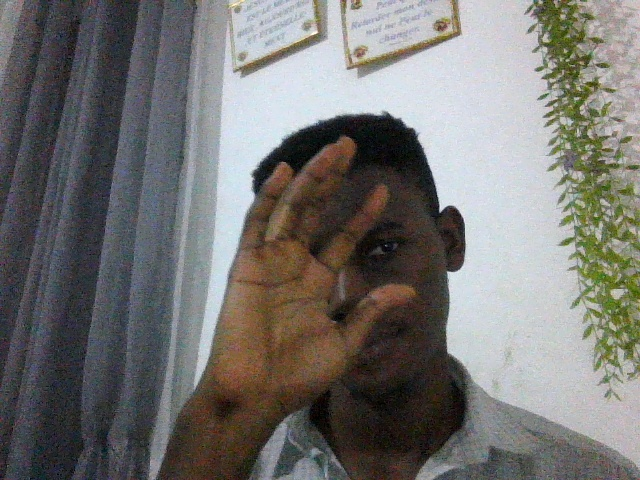hand: (206, 138, 417, 420)
